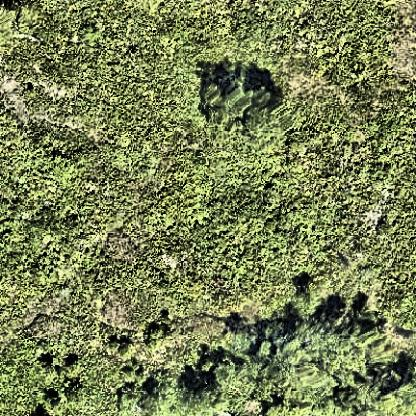tree-top: (241, 308, 383, 406), (198, 70, 300, 140), (367, 358, 416, 416), (179, 366, 221, 411), (141, 369, 175, 412), (114, 377, 149, 409), (144, 321, 174, 350)
